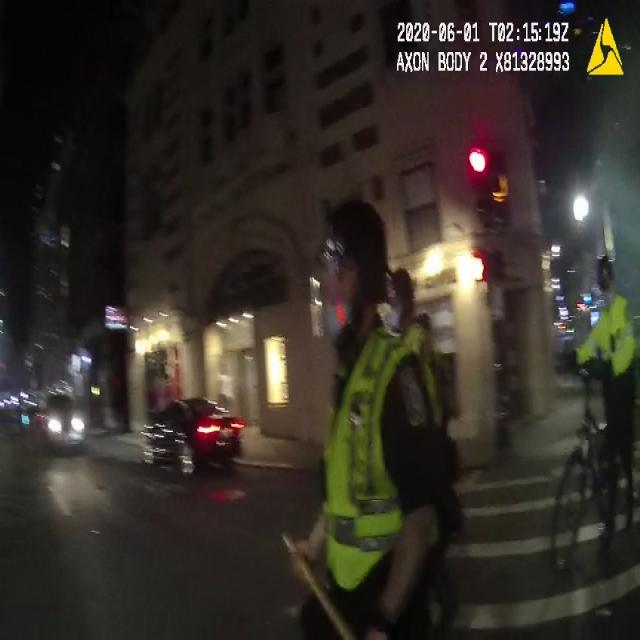cop: (291, 206, 443, 640), (567, 254, 640, 550)
police baton: (276, 524, 368, 640)
